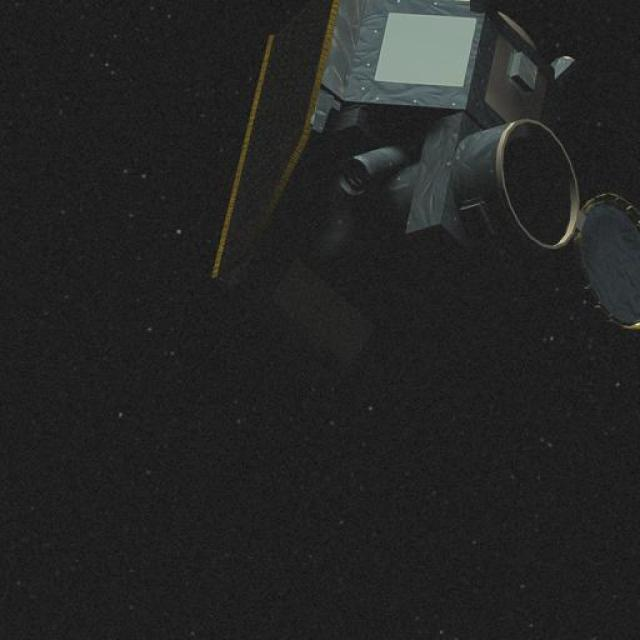cheops: (191, 0, 640, 390)
